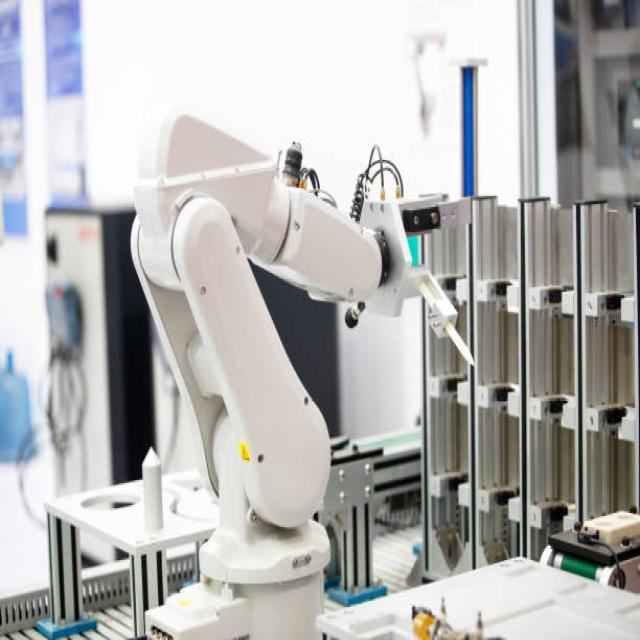Robotic-arm: (124, 95, 454, 640)
